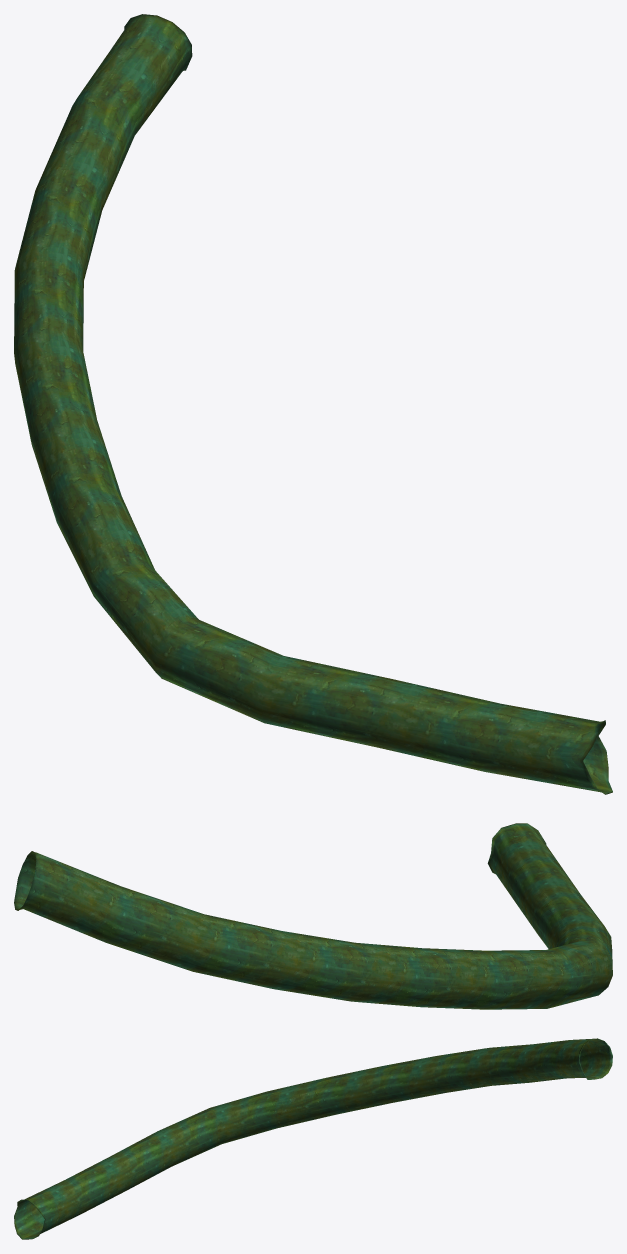
File: MIRKWOOD_INSIDETUBE.fbx
The picture shows the model from 3 angles, top to bottom: view 1: azimuth 30°, elevation 25°; view 2: azimuth 150°, elevation 25°; view 3: azimuth 270°, elevation 25°; orthographic projection. The views are drawn at different scales.
Visible parts, largest first — view 1: MIRKWOOD_INSIDETUBE; view 2: MIRKWOOD_INSIDETUBE; view 3: MIRKWOOD_INSIDETUBE.
Part boxes in pixels (x1,y1,x2,y2): MIRKWOOD_INSIDETUBE: (14, 14, 612, 794); MIRKWOOD_INSIDETUBE: (14, 823, 612, 1009); MIRKWOOD_INSIDETUBE: (14, 1038, 612, 1239).
Size of the model in its own units: 375818 by 368735 by 930180.
1 material, 1 textured.
